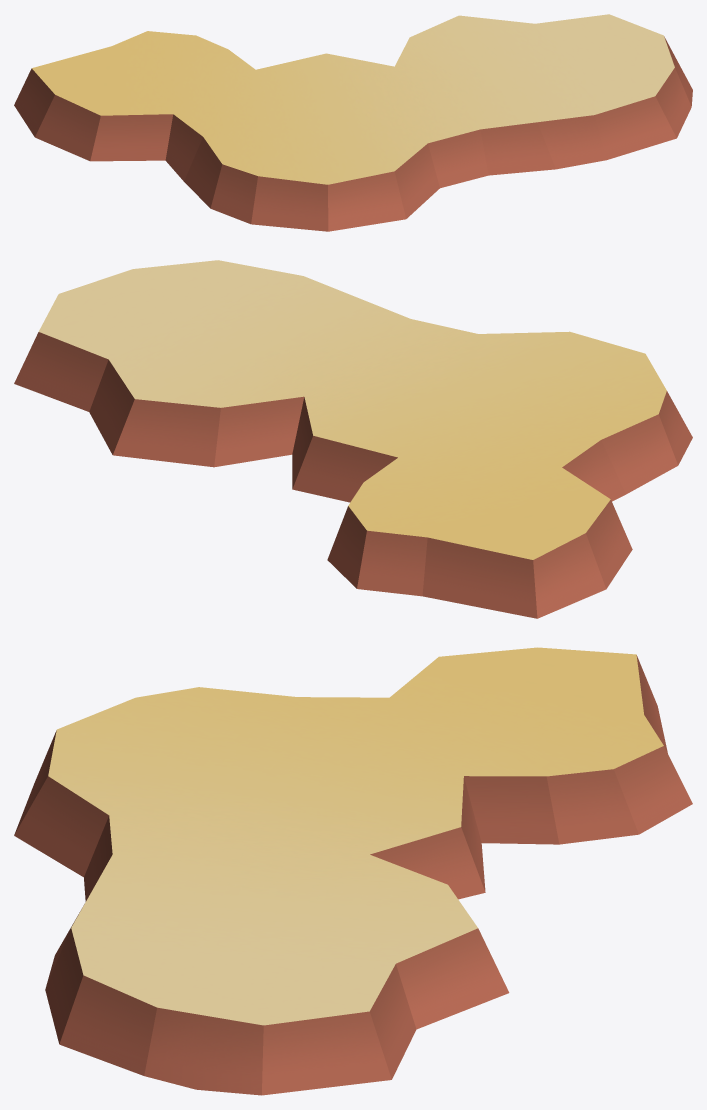
The model's file is cliff2.2.fbx.
3 views of the same model, one above another, from view 1: azimuth 30°, elevation 25°; view 2: azimuth 150°, elevation 25°; view 3: azimuth 270°, elevation 25° (orthographic). The views are drawn at different scales.
Parts seen in each view (by area): view 1: cliff2.2; view 2: cliff2.2; view 3: cliff2.2.
Boxes of the visible parts, box(x1,y1,x2,y2) form: cliff2.2: box(14, 14, 692, 231); cliff2.2: box(14, 260, 692, 618); cliff2.2: box(14, 647, 692, 1095).
Size of the model in its own units: 8.93 by 0.6152 by 6.37.
